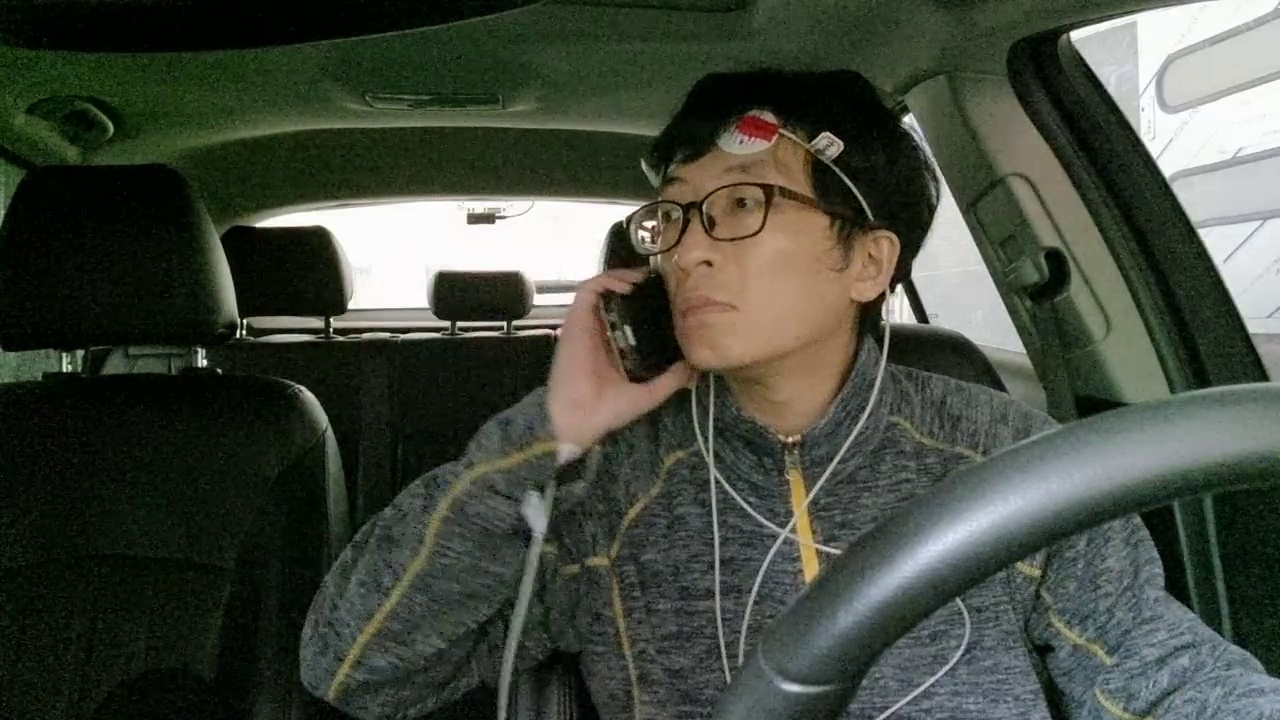phone: (565, 239, 723, 415)
